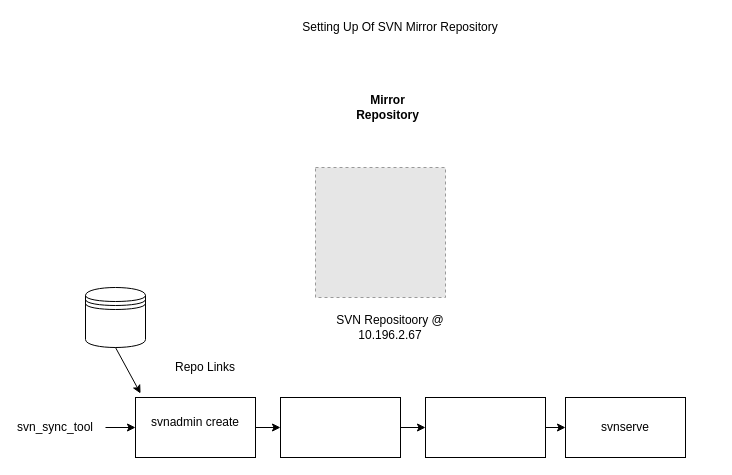
Image size: 732x475. Some labels were removed from this diagram. Grey dashed boxes stand in for pictures. The centre of each missing label's shape, as x and y in pixels:
svnsync init --allow-non-empty: [340,427]
svnsync sync: [485,427]
